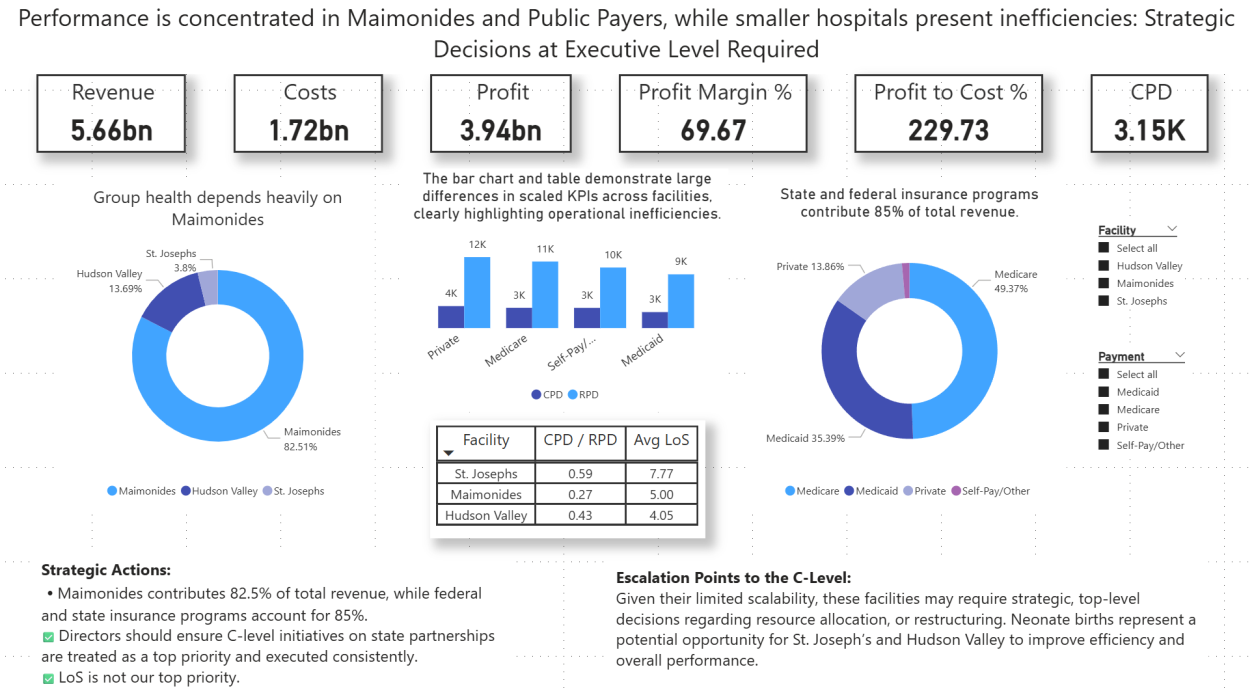

The page's visual inventory and layout, read from the dashboard file:
{"tool":"powerbi","page":{"name":"Director-Level","canvas":[1280,720],"ordinal":0},"visuals":[{"type":"card","title":"Profit","fields":{"Values":["clevel_dataset.Profit Total"]},"box":[440,80,144,80],"z":0},{"type":"card","title":"Costs","fields":{"Values":["clevel_dataset.Costs Total"]},"box":[240,80,152,80],"z":1000},{"type":"card","title":"Revenue","fields":{"Values":["clevel_dataset.Revenue Total"]},"box":[40,80,152,80],"z":2000},{"type":"card","title":"CPD","fields":{"Values":["clevel_dataset.Cost per Day"]},"box":[1112,80,120,80],"z":3000},{"type":"card","title":"Profit Margin %","fields":{"Values":["clevel_dataset.Profit Margin"]},"box":[632,80,192,80],"z":4000},{"type":"slicer","fields":{"Values":["clevel_dataset.Facility Name"]},"box":[1112,232,96,88],"z":5000},{"type":"slicer","fields":{"Values":["clevel_dataset.Payment Type"]},"box":[1112,360,104,112],"z":6000},{"type":"textbox","box":[40,568,488,144],"z":7000},{"type":"textbox","box":[0,0,1280,80],"z":8000},{"type":"clusteredColumnChart","title":"The bar chart and table demonstrate large differences in scaled KPIs across facilities, clearly highlighting operational inefficiencies.","fields":{"Category":["clevel_dataset.Payment Type"],"Y":["clevel_dataset.Cost per Day","clevel_dataset.Revenue per Patient per Day"]},"box":[416,176,328,248],"z":10000},{"type":"donutChart","title":"Group health depends heavily on Maimonides","fields":{"Category":["clevel_dataset.Facility Name"],"Y":["clevel_dataset.Revenue %"]},"box":[64,192,320,330],"z":11000},{"type":"card","title":"Profit to Cost %","fields":{"Values":["clevel_dataset.Markup %"]},"box":[872,80,192,80],"z":12000},{"type":"tableEx","fields":{"Values":["clevel_dataset.Facility Name","clevel_dataset.CPD / RPD","clevel_dataset.Avg LoS"]},"box":[440,432,280,120],"z":13000},{"type":"donutChart","title":"State and federal insurance programs contribute 85% of total revenue.","fields":{"Category":["clevel_dataset.Payment Type"],"Y":["clevel_dataset.Revenue Total"]},"box":[768,192,320,330],"z":14000},{"type":"textbox","box":[624,576,608,136],"z":15000}]}

Visuals, with their boxes in screenshot pixels (x1, y1, x2, y2), scaled from the page's 1280x720 canvas onto the 1254x693 screenshot:
"Profit" card: (431, 77, 572, 154)
"Costs" card: (235, 77, 384, 154)
"Revenue" card: (39, 77, 188, 154)
"CPD" card: (1089, 77, 1207, 154)
"Profit Margin %" card: (619, 77, 807, 154)
slicer - clevel_dataset.Facility Name: (1089, 223, 1183, 308)
slicer - clevel_dataset.Payment Type: (1089, 346, 1191, 454)
textbox: (39, 547, 517, 685)
textbox: (0, 0, 1253, 77)
"The bar chart and table demonstrate large differences in scaled KPIs across facilities, clearly highlighting operational inefficiencies." clusteredColumnChart: (408, 169, 729, 408)
"Group health depends heavily on Maimonides" donutChart: (63, 185, 376, 502)
"Profit to Cost %" card: (854, 77, 1042, 154)
tableEx - clevel_dataset.Facility Name x clevel_dataset.CPD / RPD: (431, 416, 705, 531)
"State and federal insurance programs contribute 85% of total revenue." donutChart: (752, 185, 1066, 502)
textbox: (611, 554, 1207, 685)
